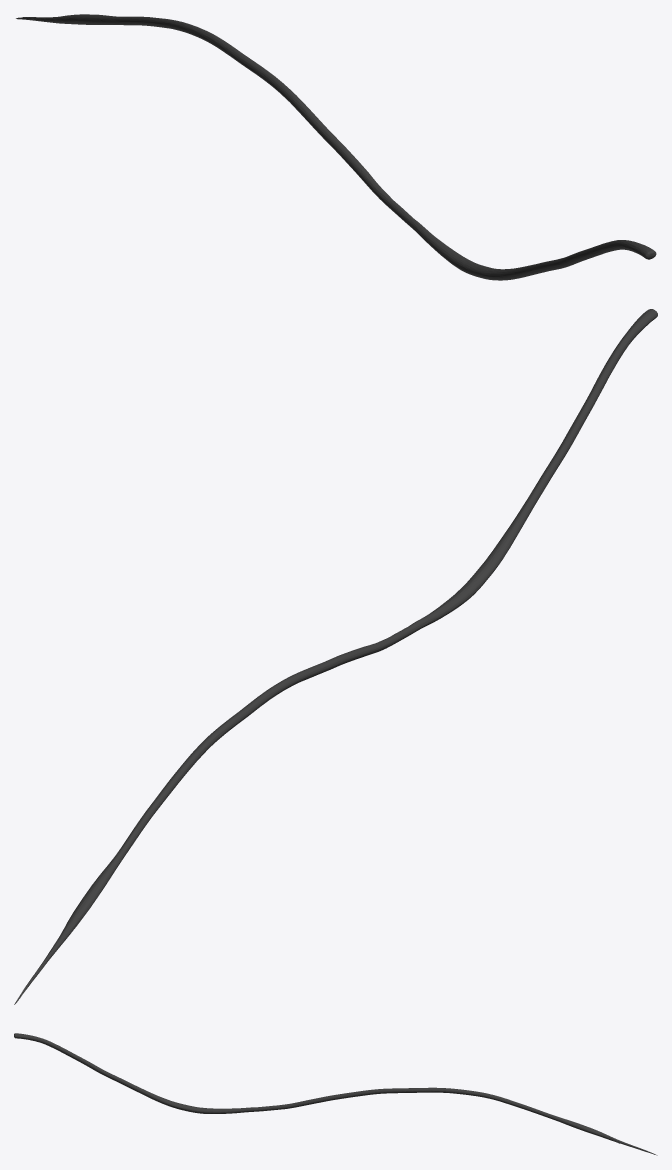
Rendered from SPINAL_CORD.glb.
3 renders of one model, top to bottom at view 1: azimuth 30°, elevation 25°; view 2: azimuth 150°, elevation 25°; view 3: azimuth 270°, elevation 25°, orthographic. The views are drawn at different scales.
Visible parts, largest first — view 1: SPINAL_CORD; view 2: SPINAL_CORD; view 3: SPINAL_CORD.
Part boxes in pixels (bbox=[...]): SPINAL_CORD: bbox=[16, 14, 656, 280]; SPINAL_CORD: bbox=[14, 309, 657, 1004]; SPINAL_CORD: bbox=[14, 1033, 657, 1155].
Bounding box in the file's own units: 0.00256 × 0.0348 × 0.1691.
Materials: 1 (1 with a texture image).
